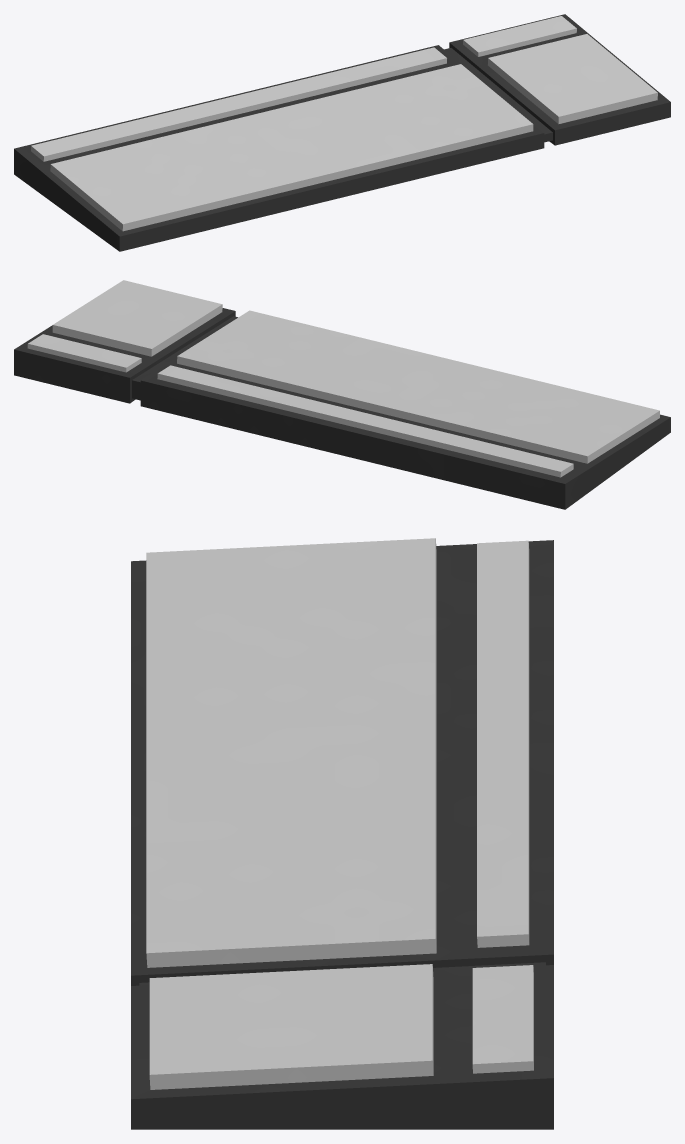
Rendered from Keyboard_01.fbx.
3 renders of one model, top to bottom at view 1: azimuth 30°, elevation 25°; view 2: azimuth 150°, elevation 25°; view 3: azimuth 270°, elevation 25°, orthographic. The views are drawn at different scales.
Parts seen in each view (by area): view 1: Keyboard_01; view 2: Keyboard_01; view 3: Keyboard_01.
Part boxes in pixels (x1,y1,x2,y2): Keyboard_01: (14, 14, 670, 251); Keyboard_01: (14, 280, 670, 509); Keyboard_01: (131, 538, 553, 1129).
Bounding box in the file's own units: 0.6744 × 0.036 × 0.2241.
